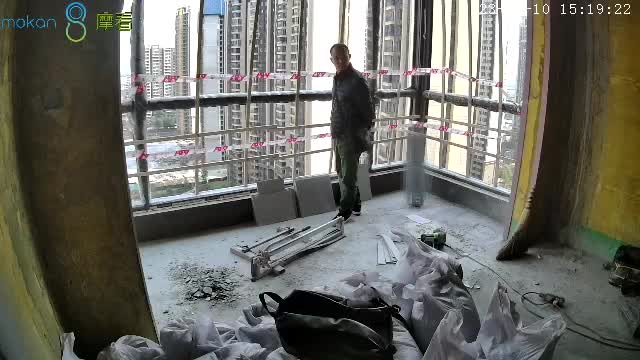people: (327, 42, 376, 222)
window: (124, 1, 527, 210)
